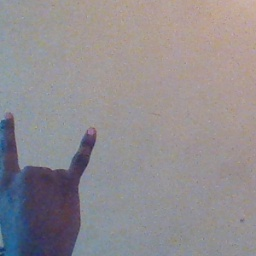V: (1, 108, 103, 256)
